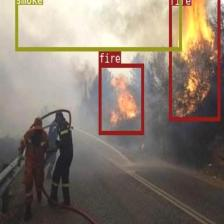fire: (168, 0, 220, 120), (98, 62, 143, 134)
smoke: (15, 0, 181, 50)
